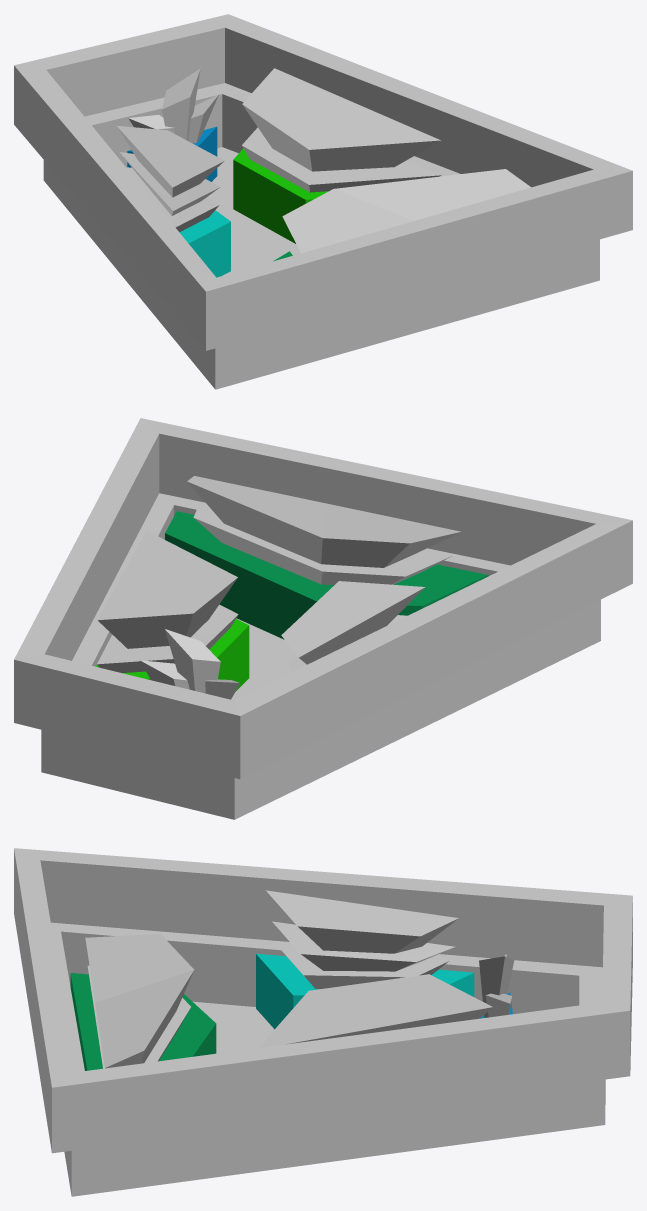
Rendered from level2_2.fbx.
3 views of the same model, one above another, from view 1: azimuth 30°, elevation 25°; view 2: azimuth 150°, elevation 25°; view 3: azimuth 270°, elevation 25° (orthographic). The views are drawn at different scales.
Parts seen in each view (by area): view 1: 2-2_upper_wall, 2-2_lower_wall, 2-2_pillar_green_top, 2-2_pillar_darkgreen_top, 2-2_pillar_aqua_top, 2-2_pillar_green, 2-2_floor, 2-2_pillar_blue_top, 2-2_pillar_aqua, 2-2_pillar_blue; view 2: 2-2_upper_wall, 2-2_lower_wall, 2-2_pillar_darkgreen_top, 2-2_pillar_green_top, 2-2_pillar_darkgreen, 2-2_pillar_aqua_top, 2-2_pillar_blue_top, 2-2_floor, 2-2_pillar_green; view 3: 2-2_upper_wall, 2-2_lower_wall, 2-2_pillar_aqua_top, 2-2_pillar_darkgreen_top, 2-2_pillar_green_top, 2-2_pillar_darkgreen, 2-2_pillar_aqua, 2-2_floor, 2-2_pillar_blue_top.
Boxes of the visible parts, x1=… form: 2-2_upper_wall: x1=14, y1=14, x2=632, y2=350; 2-2_lower_wall: x1=43, y1=83, x2=599, y2=389; 2-2_pillar_green_top: x1=242, y1=68, x2=441, y2=192; 2-2_pillar_darkgreen_top: x1=282, y1=169, x2=530, y2=255; 2-2_pillar_aqua_top: x1=117, y1=126, x2=224, y2=232; 2-2_pillar_green: x1=233, y1=148, x2=328, y2=243; 2-2_floor: x1=208, y1=147, x2=295, y2=275; 2-2_pillar_blue_top: x1=128, y1=68, x2=218, y2=143; 2-2_pillar_aqua: x1=179, y1=210, x2=230, y2=277; 2-2_pillar_blue: x1=127, y1=126, x2=217, y2=181; 2-2_upper_wall: x1=14, y1=418, x2=632, y2=779; 2-2_lower_wall: x1=41, y1=493, x2=600, y2=819; 2-2_pillar_darkgreen_top: x1=187, y1=476, x2=461, y2=585; 2-2_pillar_green_top: x1=97, y1=531, x2=238, y2=672; 2-2_pillar_darkgreen: x1=165, y1=511, x2=488, y2=639; 2-2_pillar_aqua_top: x1=281, y1=581, x2=425, y2=674; 2-2_pillar_blue_top: x1=140, y1=629, x2=240, y2=699; 2-2_floor: x1=231, y1=618, x2=295, y2=700; 2-2_pillar_green: x1=96, y1=619, x2=249, y2=691; 2-2_upper_wall: x1=14, y1=848, x2=632, y2=1153; 2-2_lower_wall: x1=51, y1=922, x2=605, y2=1196; 2-2_pillar_aqua_top: x1=266, y1=890, x2=458, y2=988; 2-2_pillar_darkgreen_top: x1=85, y1=934, x2=194, y2=1068; 2-2_pillar_green_top: x1=259, y1=974, x2=492, y2=1047; 2-2_pillar_darkgreen: x1=70, y1=973, x2=216, y2=1070; 2-2_pillar_aqua: x1=256, y1=953, x2=474, y2=1029; 2-2_floor: x1=193, y1=1001, x2=274, y2=1053; 2-2_pillar_blue_top: x1=479, y1=954, x2=514, y2=1017.
Size of the model in its own units: 23.82 by 6.17 by 26.
